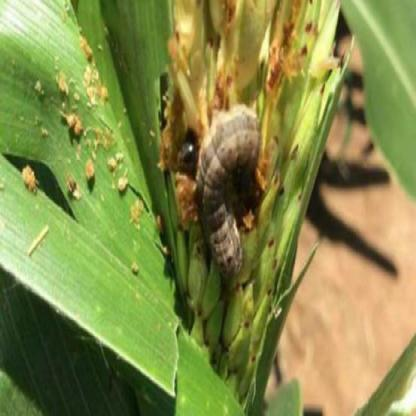armyworm: (191, 98, 263, 290)
